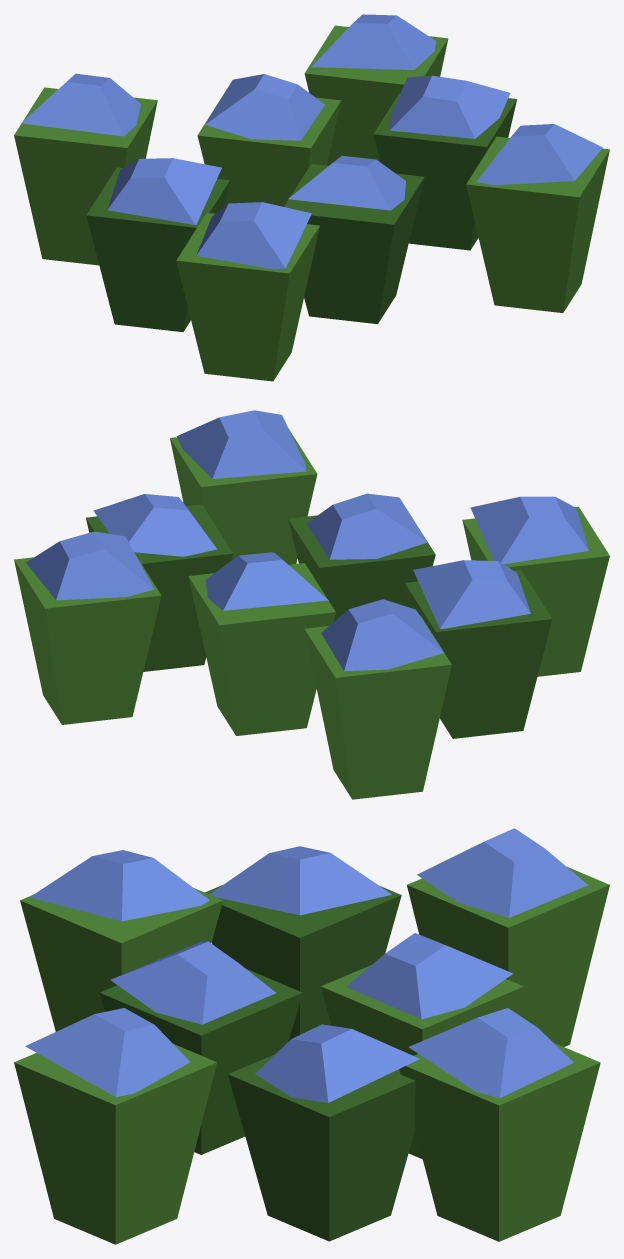
Rendered from crop_flax_3.glb.
The picture shows the model from 3 angles, top to bottom: view 1: azimuth 30°, elevation 25°; view 2: azimuth 150°, elevation 25°; view 3: azimuth 270°, elevation 25°; orthographic projection. The views are drawn at different scales.
Visible parts, largest first — view 1: crop_flax_3; view 2: crop_flax_3; view 3: crop_flax_3.
Boxes of the visible parts, box(x1,y1,x2,y2) form: crop_flax_3: box(14, 14, 609, 381); crop_flax_3: box(14, 410, 609, 799); crop_flax_3: box(14, 828, 609, 1244).
Size of the model in its own units: 2.06 by 0.7404 by 1.94.
